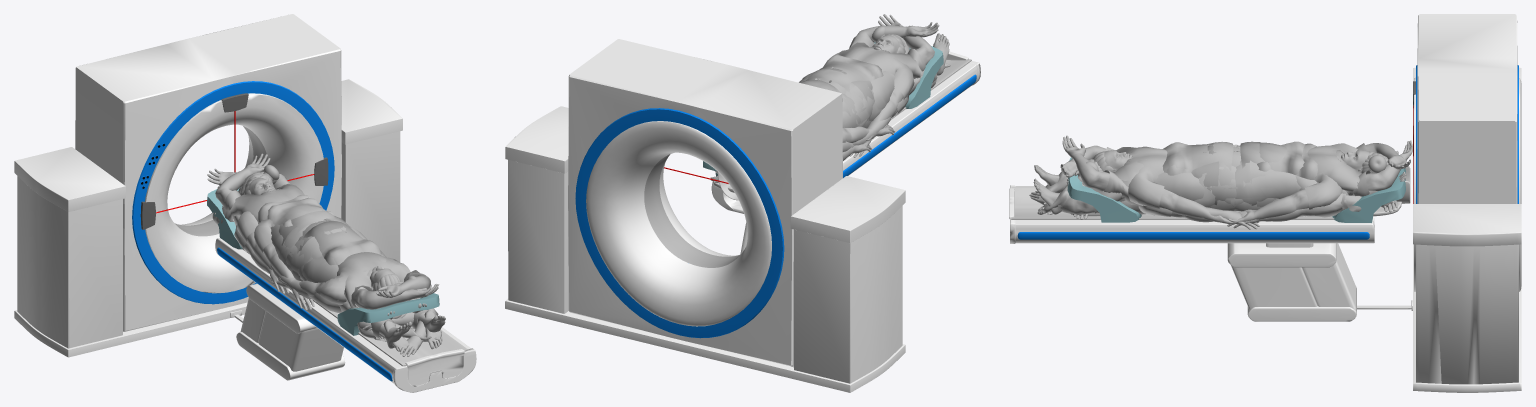
The model's file is Penny.glb.
3 views of the same model, side by side, from view 1: azimuth 30°, elevation 25°; view 2: azimuth 150°, elevation 25°; view 3: azimuth 270°, elevation 25° (orthographic). The views are drawn at different scales.
Visible parts, largest first — view 1: SM_MRI_tilt.001, SM_MRI_baseGRP_MRI, SM_MRI_bed_upDown.001, SM_MRI_bed_inOut.001, F4_body_geo1.001, scrubsShirt_geo1.001, F4_body_geo1, SM_head_arm_rest2.001, scrubsShirt_geo1, scrubsShirt_geo5, scrubsShirt_geo9, F4_body_geo3 (+10 smaller); view 2: SM_MRI_tilt.001, SM_MRI_baseGRP_MRI, SM_MRI_bed_upDown.001, F4_body_geo1.001, scrubsShirt_geo1.001, SM_head_arm_rest2.001, scrubsShirt_geo5, scrubsShirt_geo4, scrubsPants_geo3, F4_body_geo3, scrubsShirt_geo6, SM_MRI_bed_inOut.001; view 3: SM_MRI_baseGRP_MRI, SM_MRI_tilt.001, SM_MRI_bed_upDown.001, scrubsShirt_geo1.001, F4_body_geo1.001, F4_body_geo1, SM_MRI_bed_inOut.001, scrubsShirt_geo6, scrubsShirt_geo1, scrubsShirt_geo9, SM_head_arm_rest2.001, SM_head_arm_rest2 (+12 smaller).
Part boxes in pixels (x1,y1,x2,y2): SM_MRI_tilt.001: (75, 14, 341, 331); SM_MRI_baseGRP_MRI: (14, 79, 402, 380); SM_MRI_bed_upDown.001: (215, 237, 476, 392); SM_MRI_bed_inOut.001: (242, 248, 467, 386); F4_body_geo1.001: (218, 186, 439, 309); scrubsShirt_geo1.001: (292, 221, 419, 307); F4_body_geo1: (207, 153, 428, 319); SM_head_arm_rest2.001: (337, 293, 439, 335); scrubsShirt_geo1: (224, 179, 341, 247); scrubsShirt_geo5: (344, 252, 420, 308); scrubsShirt_geo9: (221, 183, 345, 234); F4_body_geo3: (270, 264, 445, 348); SM_MRI_tilt.001: (568, 39, 842, 366); SM_MRI_baseGRP_MRI: (505, 106, 905, 392); SM_MRI_bed_upDown.001: (711, 61, 980, 213); F4_body_geo1.001: (857, 14, 939, 64); scrubsShirt_geo1.001: (801, 35, 925, 107); SM_head_arm_rest2.001: (874, 42, 943, 108); scrubsShirt_geo5: (802, 42, 924, 78); scrubsShirt_geo4: (809, 47, 913, 119); scrubsPants_geo3: (819, 67, 937, 109); F4_body_geo3: (851, 25, 949, 145); scrubsShirt_geo6: (823, 47, 914, 120); SM_MRI_bed_inOut.001: (891, 51, 971, 119); SM_MRI_baseGRP_MRI: (1227, 67, 1521, 392); SM_MRI_tilt.001: (1413, 14, 1521, 291); SM_MRI_bed_upDown.001: (1010, 185, 1374, 247); scrubsShirt_geo1.001: (1104, 141, 1233, 205); F4_body_geo1.001: (1060, 135, 1405, 207); F4_body_geo1: (1066, 140, 1412, 195); SM_MRI_bed_inOut.001: (1009, 186, 1334, 219); scrubsShirt_geo6: (1128, 147, 1218, 208); scrubsShirt_geo1: (1240, 141, 1370, 196); scrubsShirt_geo9: (1250, 143, 1377, 205); SM_head_arm_rest2.001: (1067, 157, 1141, 222); SM_head_arm_rest2: (1332, 168, 1405, 222).
Bounding box in the file's own units: 2.3 × 1.53 × 2.95.
1 material, 1 textured.
